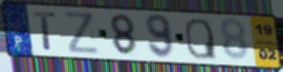8: (217, 17, 253, 64), (109, 13, 139, 58)
9: (144, 12, 176, 61)
Q: (183, 17, 219, 61)
T: (31, 10, 58, 52)
Z: (63, 10, 102, 56)
